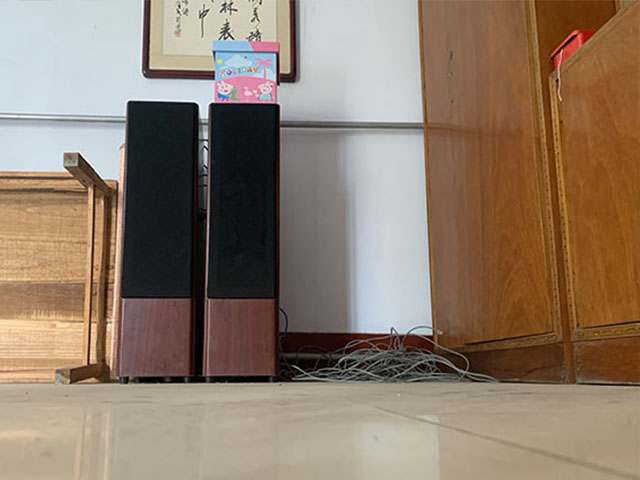cabinet: (422, 58, 640, 388)
wire: (281, 321, 497, 383)
